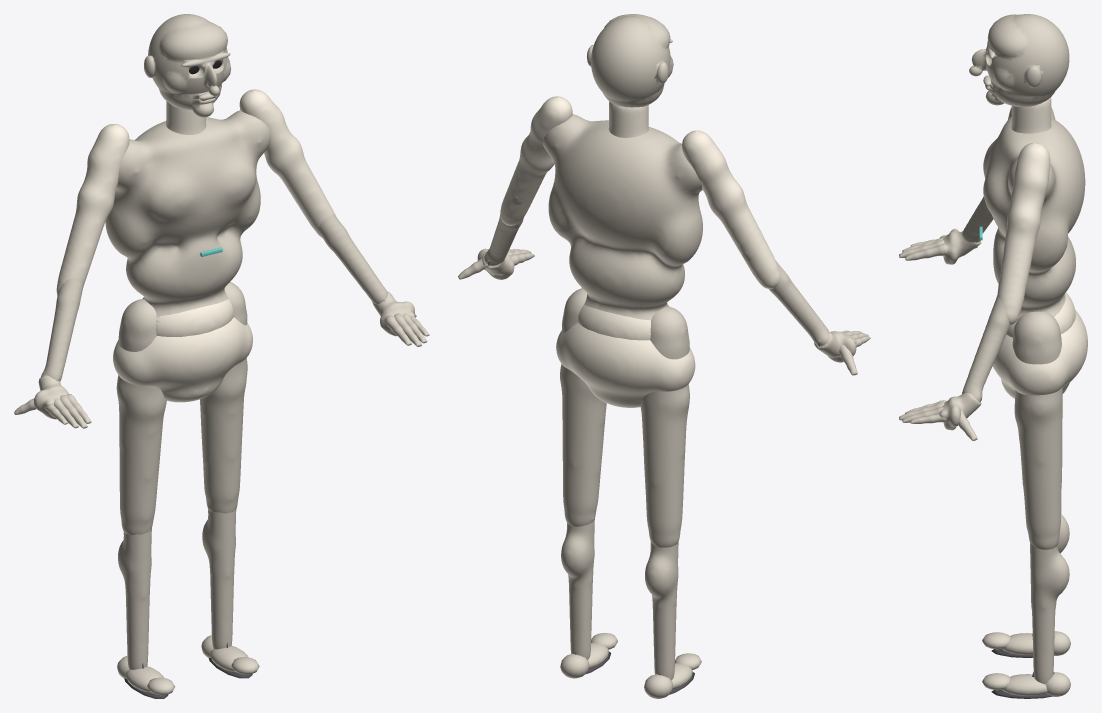
Rendered from Dummy_Mannequin_Tan_Hier_Hi.fbx.
3 views of the same model, side by side, from view 1: azimuth 30°, elevation 25°; view 2: azimuth 150°, elevation 25°; view 3: azimuth 270°, elevation 25° (orthographic).
Visible parts, largest first — view 1: Mesh_Chest, Mesh_UpperLeg_R, Mesh_Hips, Mesh_Head, Mesh_UpperLeg_L, Mesh_UpperArm_R, Mesh_UpperArm_L, Mesh_LowerLeg_L, Mesh_LowerLeg_R, Mesh_LowerArm_R, Mesh_LowerArm_L, Mesh_Hand_R (+5 smaller); view 2: Mesh_Chest, Mesh_UpperLeg_R, Mesh_Hips, Mesh_UpperLeg_L, Mesh_Head, Mesh_UpperArm_R, Mesh_UpperArm_L, Mesh_LowerLeg_L, Mesh_LowerLeg_R, Mesh_LowerArm_R, Mesh_Spine, Mesh_Foot_R (+5 smaller); view 3: Mesh_Chest, Mesh_UpperLeg_L, Mesh_Head, Mesh_UpperArm_L, Mesh_Hips, Mesh_LowerLeg_L, Mesh_LowerArm_L, Mesh_Hand_L, Mesh_Foot_L, Mesh_Hand_R, Mesh_Foot_R, Mesh_Neck (+3 smaller).
Boxes of the visible parts, x1=… form: Mesh_Chest: x1=105, y1=110, x2=270, y2=329; Mesh_UpperLeg_R: x1=116, y1=299, x2=166, y2=534; Mesh_Hips: x1=113, y1=317, x2=252, y2=402; Mesh_Head: x1=144, y1=14, x2=230, y2=117; Mesh_UpperLeg_L: x1=200, y1=282, x2=247, y2=513; Mesh_UpperArm_R: x1=56, y1=124, x2=129, y2=295; Mesh_UpperArm_L: x1=239, y1=89, x2=335, y2=237; Mesh_LowerLeg_L: x1=202, y1=509, x2=236, y2=649; Mesh_LowerLeg_R: x1=118, y1=528, x2=151, y2=669; Mesh_LowerArm_R: x1=40, y1=277, x2=84, y2=381; Mesh_LowerArm_L: x1=319, y1=214, x2=387, y2=304; Mesh_Hand_R: x1=14, y1=375, x2=91, y2=428; Mesh_Chest: x1=543, y1=114, x2=702, y2=320; Mesh_UpperLeg_R: x1=640, y1=306, x2=689, y2=547; Mesh_Hips: x1=556, y1=323, x2=695, y2=407; Mesh_UpperLeg_L: x1=560, y1=288, x2=606, y2=526; Mesh_Head: x1=587, y1=14, x2=673, y2=107; Mesh_UpperArm_R: x1=682, y1=130, x2=779, y2=288; Mesh_UpperArm_L: x1=500, y1=96, x2=572, y2=225; Mesh_LowerLeg_L: x1=561, y1=518, x2=594, y2=659; Mesh_LowerLeg_R: x1=645, y1=541, x2=678, y2=680; Mesh_LowerArm_R: x1=742, y1=252, x2=829, y2=345; Mesh_Spine: x1=578, y1=304, x2=668, y2=340; Mesh_Foot_R: x1=644, y1=653, x2=701, y2=698; Mesh_Chest: x1=979, y1=107, x2=1085, y2=331; Mesh_UpperLeg_L: x1=1012, y1=311, x2=1062, y2=549; Mesh_Head: x1=969, y1=14, x2=1069, y2=107; Mesh_UpperArm_L: x1=997, y1=142, x2=1050, y2=325; Mesh_Hips: x1=992, y1=310, x2=1087, y2=398; Mesh_LowerLeg_L: x1=1030, y1=543, x2=1069, y2=684; Mesh_LowerArm_L: x1=962, y1=279, x2=1027, y2=401; Mesh_Hand_L: x1=899, y1=393, x2=981, y2=440; Mesh_Foot_L: x1=982, y1=672, x2=1070, y2=698; Mesh_Hand_R: x1=899, y1=228, x2=981, y2=264; Mesh_Foot_R: x1=982, y1=631, x2=1070, y2=657; Mesh_Neck: x1=1011, y1=97, x2=1051, y2=133.
Bounding box in the file's own units: 1.14 × 1.8 × 0.4679.
